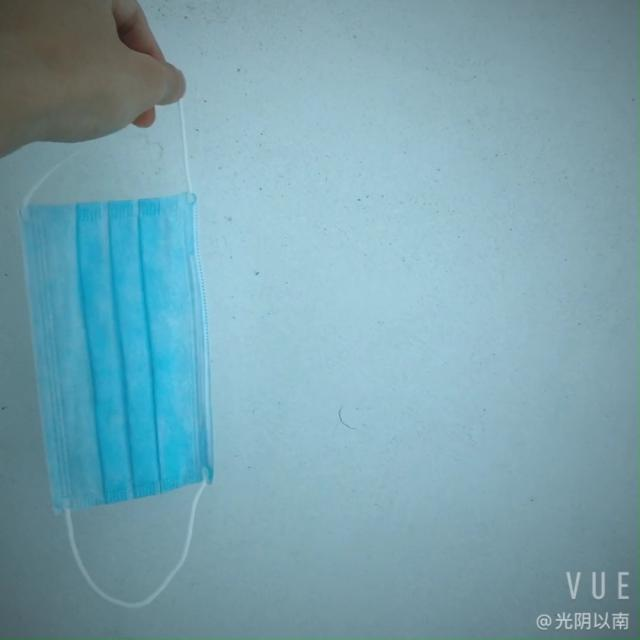face mask: (28, 180, 225, 528)
